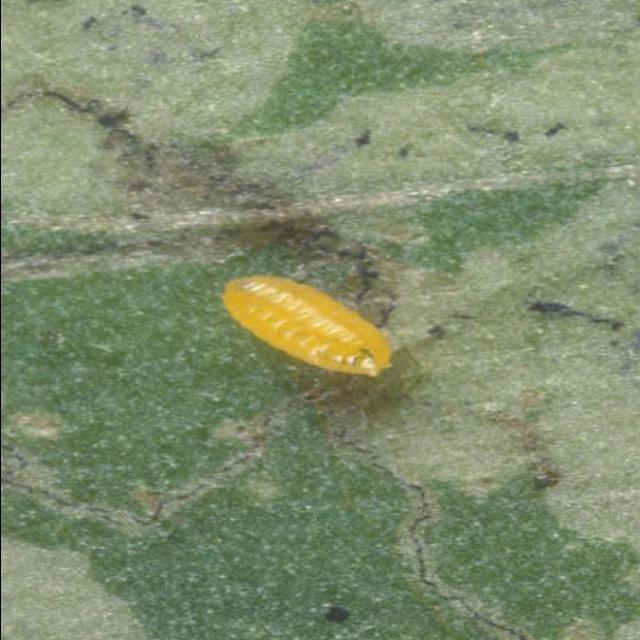Serpentine leafminer: (208, 269, 400, 383)
